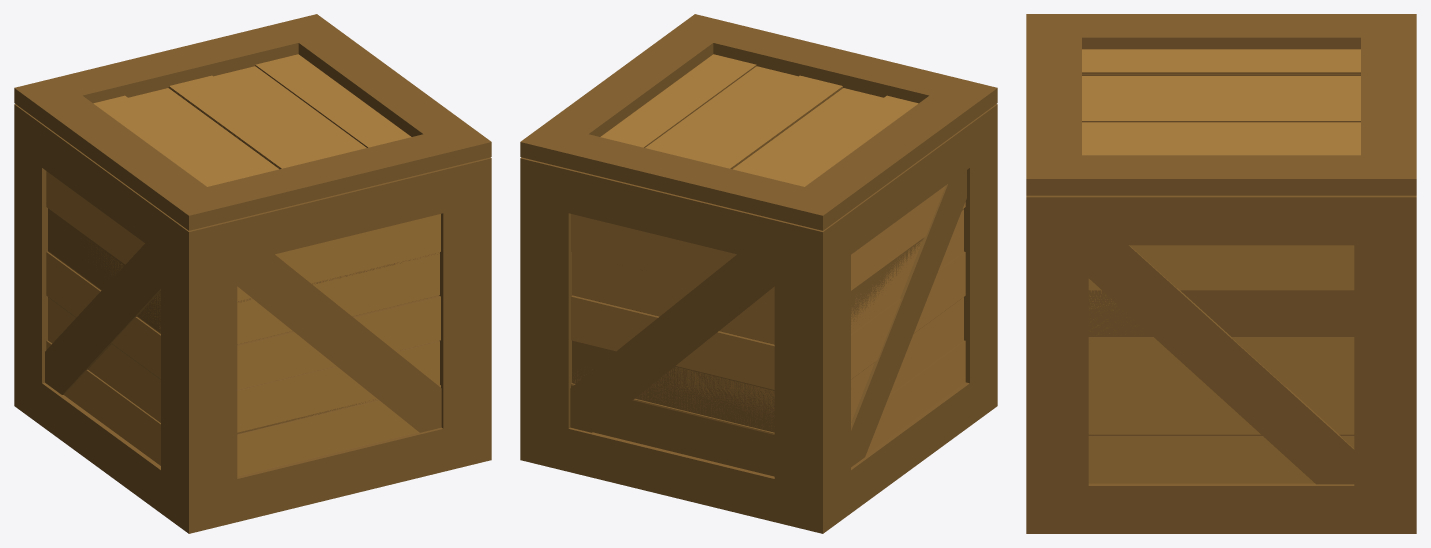
Rendered from newbox.fbx.
The picture shows the model from 3 angles, left to right: view 1: azimuth 30°, elevation 25°; view 2: azimuth 150°, elevation 25°; view 3: azimuth 270°, elevation 25°; orthographic projection. The views are drawn at different scales.
Parts seen in each view (by area): view 1: Куб.008; view 2: Куб.008; view 3: Куб.008.
Part boxes in pixels (<box>): Куб.008: <box>14,14,491,533</box>; Куб.008: <box>520,14,997,533</box>; Куб.008: <box>1026,14,1416,533</box>.
Size of the model in its own units: 210 by 211 by 210.
